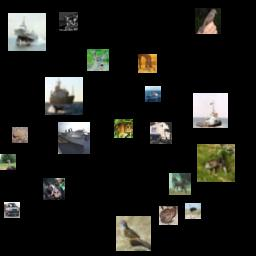automobile: (4, 202, 20, 218)
bird: (116, 216, 151, 251), (195, 8, 221, 34), (0, 154, 16, 170), (185, 203, 201, 219)
cat: (59, 12, 78, 31)
deer: (87, 49, 109, 71)
frog: (197, 144, 235, 182), (43, 178, 65, 200), (159, 206, 178, 225), (114, 119, 133, 138), (12, 127, 28, 143)
ship: (8, 13, 46, 51), (45, 77, 83, 115), (193, 93, 228, 128), (58, 122, 90, 154), (145, 86, 161, 102)
truck: (150, 122, 172, 144)
